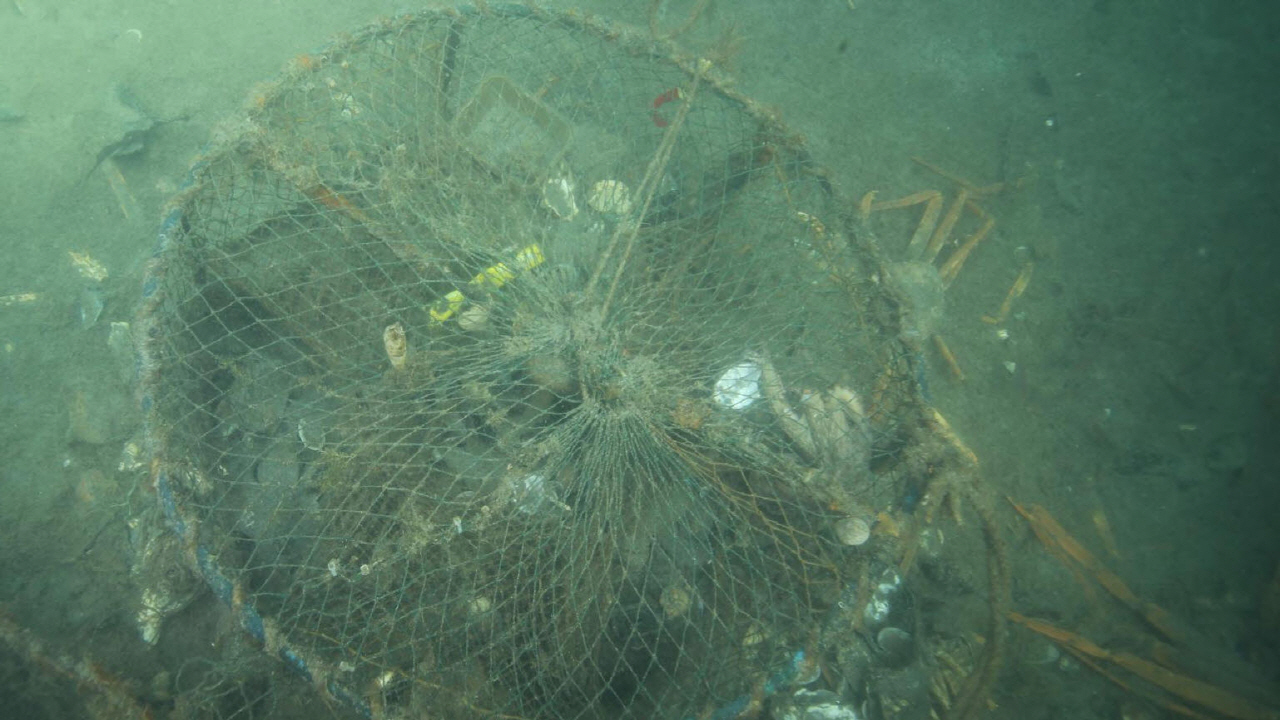circular fish trap: (132, 0, 935, 720)
